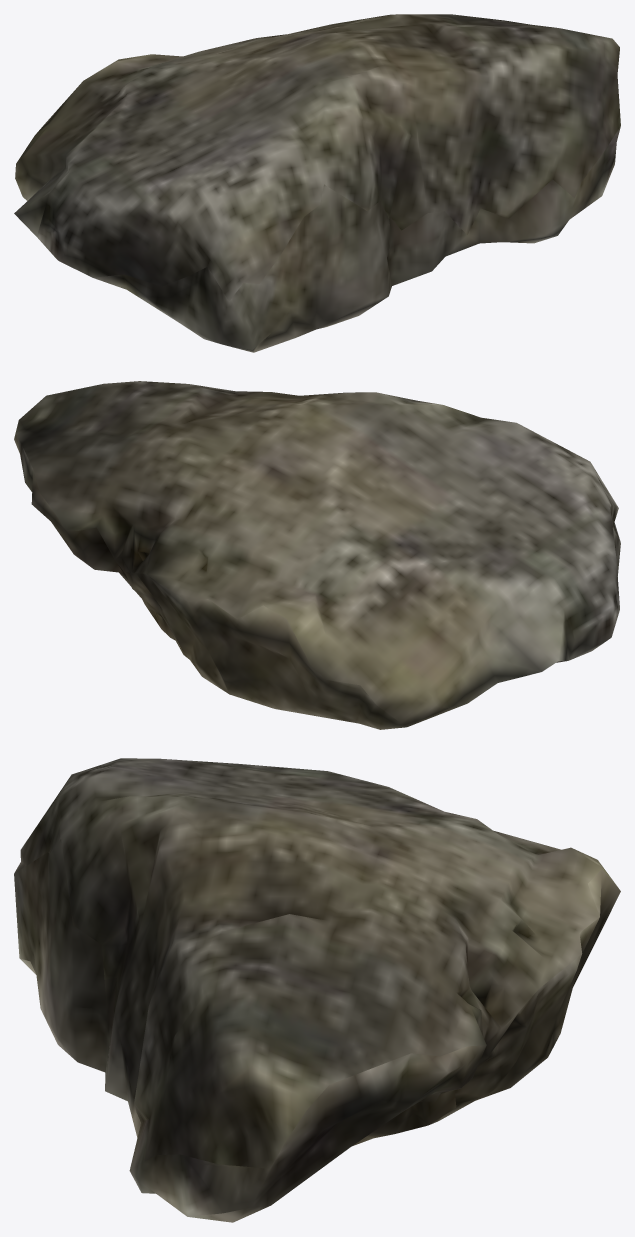
Rendered from rock_moss_set_02_rock10.glb.
3 views of the same model, one above another, from view 1: azimuth 30°, elevation 25°; view 2: azimuth 150°, elevation 25°; view 3: azimuth 270°, elevation 25° (orthographic). The views are drawn at different scales.
Visible parts, largest first — view 1: rock_moss_set_02_rock10; view 2: rock_moss_set_02_rock10; view 3: rock_moss_set_02_rock10.
Part boxes in pixels (x1,y1,x2,y2): rock_moss_set_02_rock10: [14, 14, 620, 352]; rock_moss_set_02_rock10: [14, 381, 620, 729]; rock_moss_set_02_rock10: [14, 758, 620, 1222].
Size of the model in its own units: 2.19 by 0.762 by 1.55.
1 material, 1 textured.
